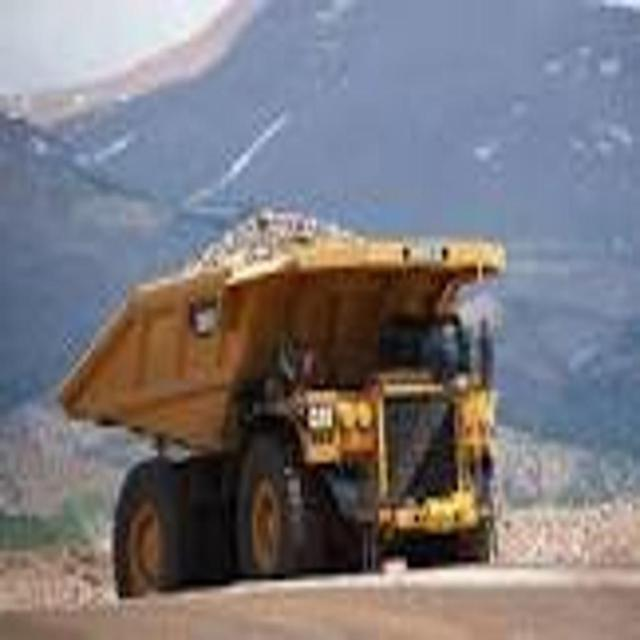dump_truck: (59, 200, 506, 606)
